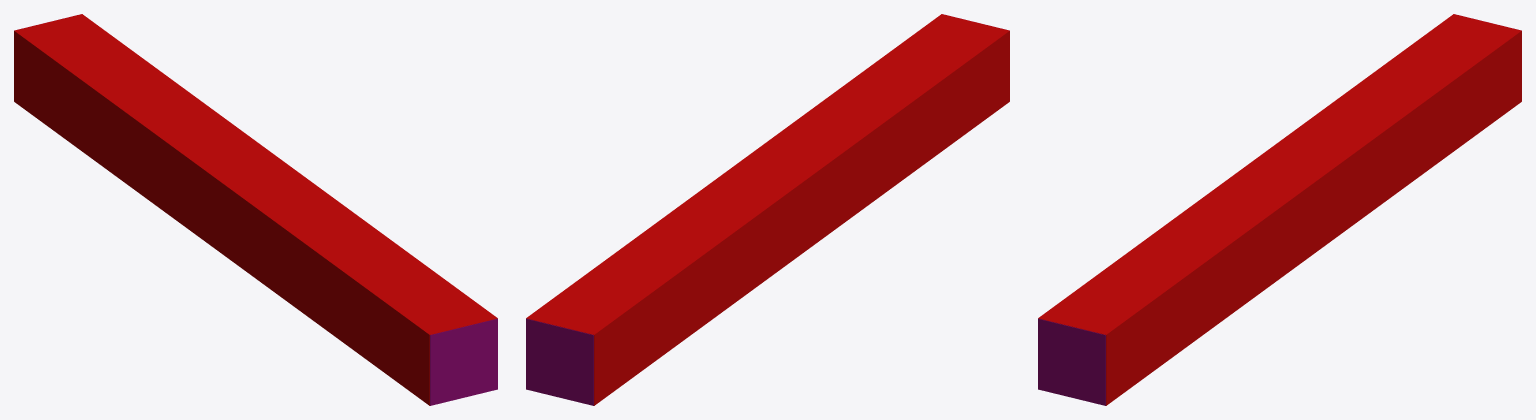
The model's file is SciFi_wall_trim.DAE.
3 renders of one model, left to right at view 1: azimuth 30°, elevation 25°; view 2: azimuth 150°, elevation 25°; view 3: azimuth 330°, elevation 25°, orthographic.
Visible parts, largest first — view 1: colbox-01, bounds; view 2: colbox-01, bounds; view 3: colbox-01, bounds.
Part boxes in pixels (x1,y1,x2,y2): colbox-01: [14, 14, 497, 405]; bounds: [22, 18, 497, 405]; colbox-01: [526, 14, 1009, 405]; bounds: [526, 14, 1001, 405]; colbox-01: [1038, 14, 1521, 405]; bounds: [1038, 18, 1513, 405].
Bounding box in the file's own units: 60.68 × 641 × 60.34.
